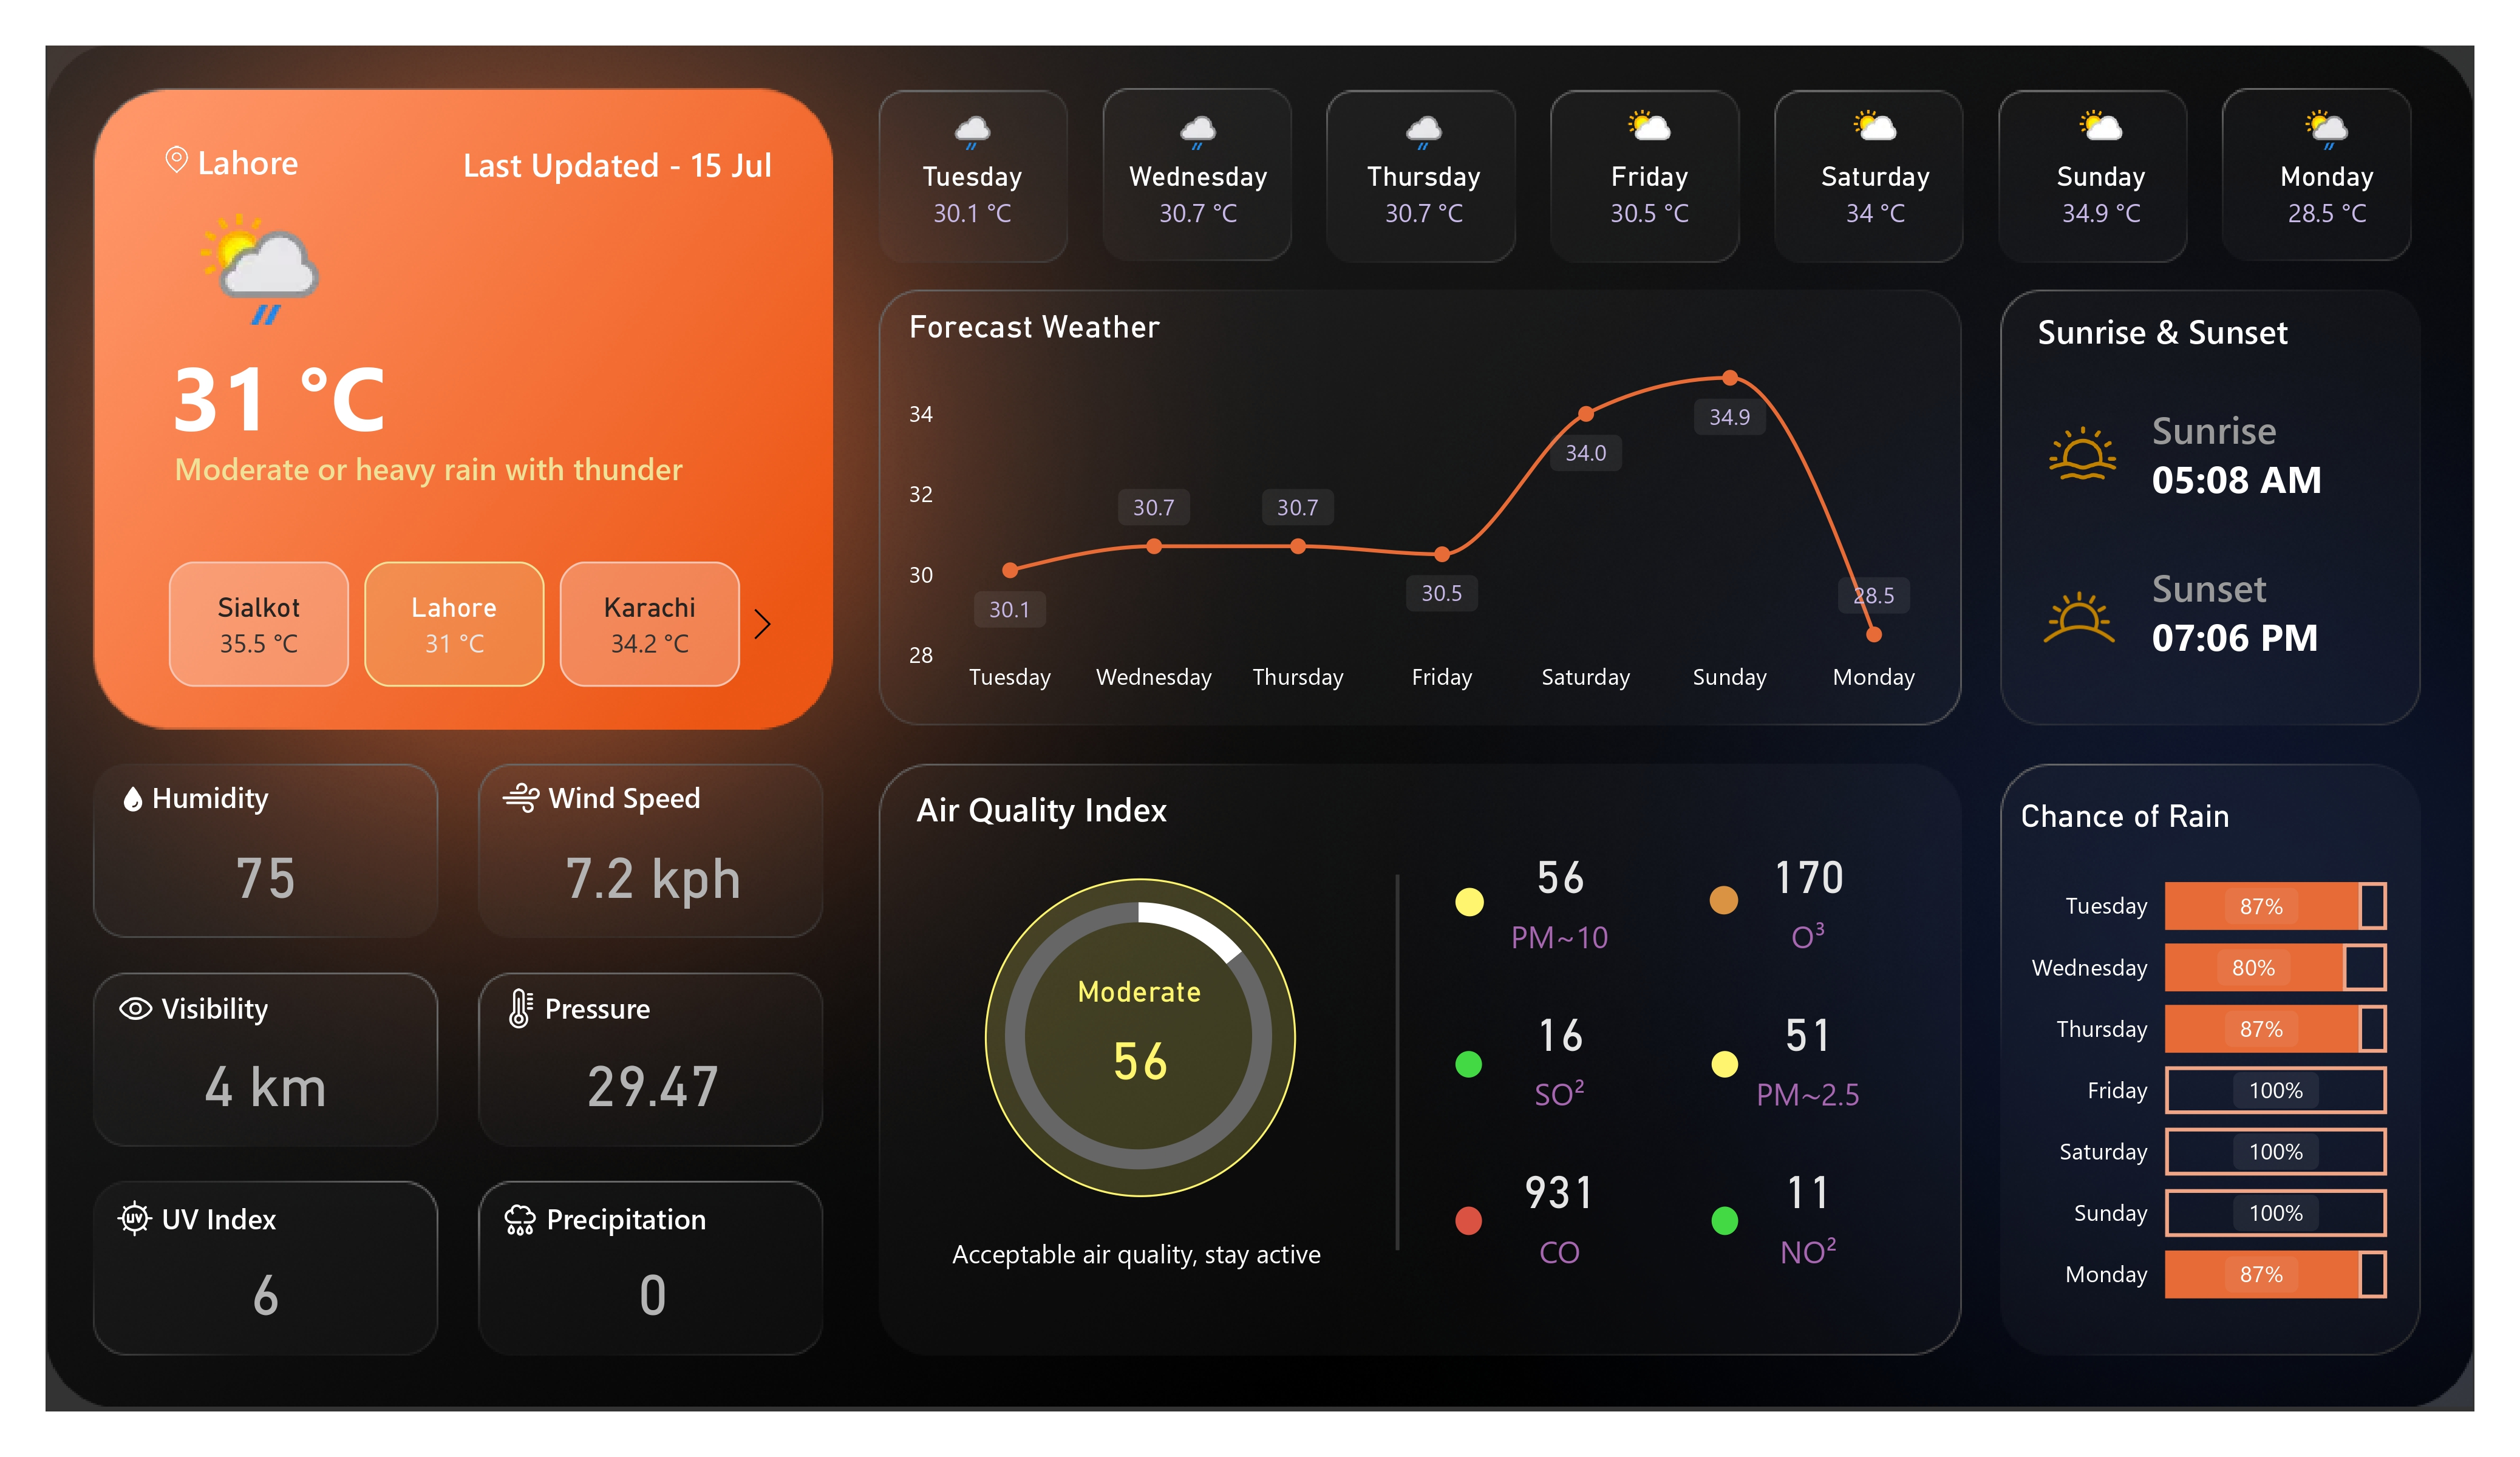

The page's visual inventory and layout, read from the dashboard file:
{"tool":"powerbi","page":{"name":"Pro_Weather_Proj","canvas":[1280,720],"ordinal":0},"visuals":[{"type":"shape","box":[1110.1,205.3,137.8,44.4],"z":0,"group":"g3"},{"type":"shape","box":[1110.2,288.6,137.8,44.4],"z":0,"group":"g4"},{"type":"shape","box":[494.5,438.5,164,168],"z":0,"group":"g6"},{"type":"shape","box":[742.7,443.6,14.5,14.5],"z":0,"group":"g5"},{"type":"image","box":[30.9,491.8,32.7,30.9],"z":0,"group":"g1"},{"type":"card","fields":{"Values":["_Measures.Vis_Km"]},"box":[41,523,150,47],"z":0},{"type":"shape","box":[61,605.9,90,24.4],"z":0,"group":"g2"},{"type":"shape","box":[1110,179,137.8,44.4],"z":1000,"group":"g3"},{"type":"shape","box":[1110.1,262.2,137.8,44.4],"z":1000,"group":"g4"},{"type":"card","fields":{"Values":["Sum(Current.current.air_quality.pm10)"]},"box":[749.9,414,96,73],"z":1000},{"type":"donutChart","fields":{"Y":["Sum(Current.current.air_quality.pm10)","_Measures.Left_Value_PM10"]},"box":[483,424,186.2,201.2],"z":1000,"group":"g6"},{"type":"shape","box":[60.6,494.9,90,24.4],"z":1000,"group":"g1"},{"type":"shape","box":[743,530,14,14],"z":1000,"group":"g5"},{"type":"image","box":[31,603,32,30],"z":1000,"group":"g2"},{"type":"shape","box":[877.4,443.3,14.5,14.5],"z":2000},{"type":"shape","box":[743,612,14,15],"z":2000,"group":"g5"},{"type":"card","fields":{"Values":["Sum(Current.current.air_quality.gb-defra-index)"]},"box":[41,633,150,47],"z":3000},{"type":"card","fields":{"Values":["Sum(Current.current.air_quality.so2)"]},"box":[749.9,497,96,73],"z":4000},{"type":"shape","box":[877.7,529.7,14,14],"z":5000},{"type":"advancedSlicerVisual","fields":{"Values":["Locations.location.name"]},"box":[40,267.1,352.9,75.7],"z":6000},{"type":"card","fields":{"Values":["Sum(Current.current.air_quality.co)"]},"box":[749.9,580,96,73],"z":7000},{"type":"shape","box":[877.7,611.7,14,15],"z":8000},{"type":"shape","box":[263.8,606.1,90,24.4],"z":9000},{"type":"card","fields":{"Values":["Sum(Current.current.pressure_in)"]},"box":[245,523,150,47],"z":10000},{"type":"card","fields":{"Values":["Sum(Current.current.precip_in)"]},"box":[245,633,150,47],"z":11000},{"type":"shape","box":[56.5,384.1,90,24.1],"z":12000},{"type":"shape","box":[265,384.2,90,24.2],"z":13000},{"type":"shape","box":[263.5,495.1,90,24.4],"z":14000},{"type":"shape","box":[65.8,153.3,236.7,60.8],"z":15000},{"type":"shape","box":[68,192,317,61],"z":16000},{"type":"shape","box":[79.7,43.5,120,33.7],"z":17000},{"type":"shape","box":[185,43.8,197.5,33.8],"z":18000},{"type":"image","box":[52.1,48.4,32.6,23.9],"z":19000},{"type":"cardVisual","fields":{"Data":["Min(Current.current.condition.icon)"]},"box":[52.5,60.8,115.8,105],"z":20000},{"type":"image","box":[31.2,384.7,30,24.7],"z":21000},{"type":"image","box":[234,381,32,31],"z":22000},{"type":"image","box":[234,492,32,31],"z":23000},{"type":"group","id":"g1","title":"Group 1","box":[30.9,491.8,119.7,30.9],"z":24000},{"type":"group","id":"g2","title":"Group 2","box":[31,603,120,30],"z":25000},{"type":"image","box":[234.2,604.2,31.7,30],"z":26000},{"type":"card","fields":{"Values":["Sum(Current.current.humidity)"]},"box":[41,413,150,47],"z":27000},{"type":"card","fields":{"Values":["_Measures.Wind_Speed"]},"box":[245,413,150,47],"z":28000},{"type":"advancedSlicerVisual","fields":{"Values":["Forecast_Day.Day_Name"]},"box":[428.2,24.1,834.7,90],"z":29000},{"type":"lineChart","title":"Forecast Weather","fields":{"Y":["Sum(Forecast_Day.forecast.forecastday.day.avgtemp_c)"],"Category":["Forecast_Day.Day_Name"]},"box":[450,137.9,549.3,213.6],"z":30000},{"type":"group","id":"g3","title":"Group 3","box":[1110,179,137.9,70.7],"z":31000},{"type":"group","id":"g4","title":"Group 4","box":[1110.1,262.2,137.9,70.8],"z":32000},{"type":"shape","box":[1050,131.8,157.3,34.5],"z":33000},{"type":"image","box":[1048,192,50,45],"z":34000},{"type":"image","box":[1042.2,267.8,60,65.6],"z":35000},{"type":"hundredPercentStackedBarChart","title":"Chance of Rain","fields":{"Y":["Sum(Forecast_Day.forecast.forecastday.day.daily_chance_of_rain)","_Measures.Left_value_Rain"],"Category":["Forecast_Day.Day_Name"]},"box":[1035.7,395.7,202.9,282.9],"z":36000},{"type":"shape","box":[458.9,384.4,157.8,34.4],"z":37000},{"type":"card","fields":{"Values":["Sum(Current.current.air_quality.o3)"]},"box":[880.7,413.5,96,73],"z":38000},{"type":"card","fields":{"Values":["Sum(Current.current.air_quality.pm2_5)"]},"box":[880.7,496.5,96,73],"z":39000},{"type":"card","fields":{"Values":["Sum(Current.current.air_quality.no2)"]},"box":[880.7,579.5,96,73],"z":40000},{"type":"group","id":"g5","title":"Group 5","box":[742.7,443.6,14.5,183.4],"z":41000},{"type":"shape","box":[686.7,436.7,51.7,198.3],"z":42000},{"type":"shape","box":[461,619,228,34],"z":43000},{"type":"group","id":"g6","title":"Group 6","box":[483,424,186.2,201.2],"z":44000},{"type":"card","fields":{"Values":["Sum(Current.current.air_quality.pm10)"]},"box":[529.2,489,95,71.2],"z":45000,"group":"g6"}]}

Visuals, with their boxes on the page's 1280x720 design canvas (x1, y1, x2, y2). These are canvas units, not pixel positions in the 2520x1457 screenshot, which may show the page scaled, cropped or inside an application window:
shape: bbox=[1110, 205, 1248, 250]
shape: bbox=[1110, 289, 1248, 333]
shape: bbox=[494, 438, 658, 606]
shape: bbox=[743, 444, 757, 458]
image: bbox=[31, 492, 64, 523]
card - _Measures.Vis_Km: bbox=[41, 523, 191, 570]
shape: bbox=[61, 606, 151, 630]
shape: bbox=[1110, 179, 1248, 223]
shape: bbox=[1110, 262, 1248, 307]
card - Sum(Current.current.air_quality.pm10): bbox=[750, 414, 846, 487]
donutChart - Sum(Current.current.air_quality.pm10) x _Measures.Left_Value_PM10: bbox=[483, 424, 669, 625]
shape: bbox=[61, 495, 151, 519]
shape: bbox=[743, 530, 757, 544]
image: bbox=[31, 603, 63, 633]
shape: bbox=[877, 443, 892, 458]
shape: bbox=[743, 612, 757, 627]
card - Sum(Current.current.air_quality.gb-defra-index): bbox=[41, 633, 191, 680]
card - Sum(Current.current.air_quality.so2): bbox=[750, 497, 846, 570]
shape: bbox=[878, 530, 892, 544]
advancedSlicerVisual - Locations.location.name: bbox=[40, 267, 393, 343]
card - Sum(Current.current.air_quality.co): bbox=[750, 580, 846, 653]
shape: bbox=[878, 612, 892, 627]
shape: bbox=[264, 606, 354, 630]
card - Sum(Current.current.pressure_in): bbox=[245, 523, 395, 570]
card - Sum(Current.current.precip_in): bbox=[245, 633, 395, 680]
shape: bbox=[56, 384, 146, 408]
shape: bbox=[265, 384, 355, 408]
shape: bbox=[264, 495, 354, 520]
shape: bbox=[66, 153, 302, 214]
shape: bbox=[68, 192, 385, 253]
shape: bbox=[80, 44, 200, 77]
shape: bbox=[185, 44, 382, 78]
image: bbox=[52, 48, 85, 72]
cardVisual - Min(Current.current.condition.icon): bbox=[52, 61, 168, 166]
image: bbox=[31, 385, 61, 409]
image: bbox=[234, 381, 266, 412]
image: bbox=[234, 492, 266, 523]
"Group 1" group: bbox=[31, 492, 151, 523]
"Group 2" group: bbox=[31, 603, 151, 633]
image: bbox=[234, 604, 266, 634]
card - Sum(Current.current.humidity): bbox=[41, 413, 191, 460]
card - _Measures.Wind_Speed: bbox=[245, 413, 395, 460]
advancedSlicerVisual - Forecast_Day.Day_Name: bbox=[428, 24, 1263, 114]
"Forecast Weather" lineChart: bbox=[450, 138, 999, 352]
"Group 3" group: bbox=[1110, 179, 1248, 250]
"Group 4" group: bbox=[1110, 262, 1248, 333]
shape: bbox=[1050, 132, 1207, 166]
image: bbox=[1048, 192, 1098, 237]
image: bbox=[1042, 268, 1102, 333]
"Chance of Rain" hundredPercentStackedBarChart: bbox=[1036, 396, 1239, 679]
shape: bbox=[459, 384, 617, 419]
card - Sum(Current.current.air_quality.o3): bbox=[881, 414, 977, 486]
card - Sum(Current.current.air_quality.pm2_5): bbox=[881, 496, 977, 570]
card - Sum(Current.current.air_quality.no2): bbox=[881, 580, 977, 652]
"Group 5" group: bbox=[743, 444, 757, 627]
shape: bbox=[687, 437, 738, 635]
shape: bbox=[461, 619, 689, 653]
"Group 6" group: bbox=[483, 424, 669, 625]
card - Sum(Current.current.air_quality.pm10): bbox=[529, 489, 624, 560]
